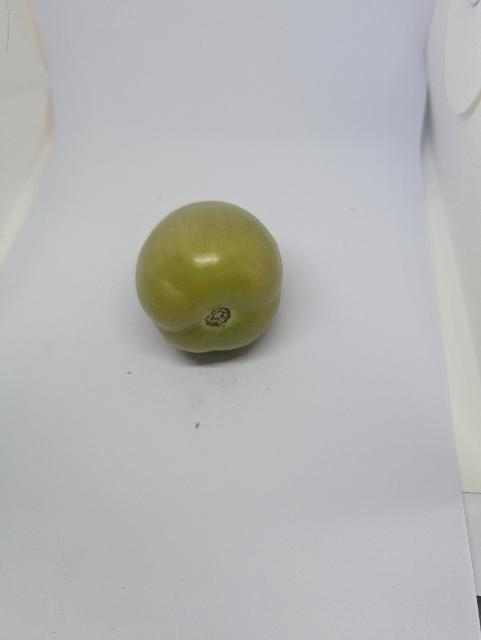green: (125, 182, 296, 390)
